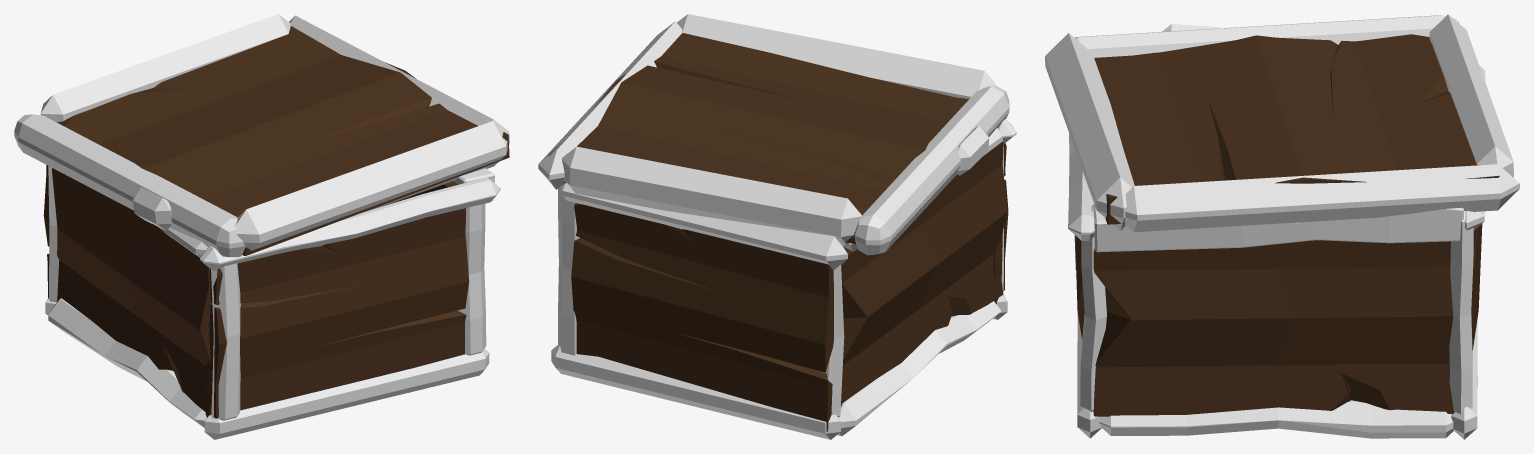
The model's file is Chest 1.fbx.
3 renders of one model, left to right at view 1: azimuth 30°, elevation 25°; view 2: azimuth 150°, elevation 25°; view 3: azimuth 270°, elevation 25°, orthographic. The views are drawn at different scales.
Parts seen in each view (by area): view 1: Plank .009, Plank .005, Plank .008, Cube.140, Cube.139, Cube.124, Cube.141, Cube.132, Cube.127, Cube.130, Cube.128, Cube.138 (+3 smaller); view 2: Plank .006, Plank .009, Plank .008, Cube.141, Cube.140, Cube.139, Cube.125, Cube.133, Cube.127, Cube.138, Cube.129, Cube.131 (+2 smaller); view 3: Plank .004, Plank .009, Cube.138, Cube.134, Cube.126, Cube.140, Cube.139, Cube.141, Cube.129, Cube.128, Cube.132, Cube.125 (+3 smaller).
Boxes of the visible parts, x1,y1,x2,y2 form: Plank .009: [57, 26, 509, 255]; Plank .005: [205, 201, 469, 418]; Plank .008: [52, 168, 211, 415]; Cube.140: [234, 121, 509, 250]; Cube.139: [14, 114, 245, 257]; Cube.124: [204, 348, 489, 439]; Cube.141: [40, 14, 290, 122]; Cube.132: [200, 177, 500, 270]; Cube.127: [48, 298, 206, 427]; Cube.130: [211, 263, 240, 420]; Cube.128: [457, 182, 486, 355]; Cube.138: [289, 15, 508, 132]; Plank .006: [571, 203, 833, 431]; Plank .009: [548, 33, 968, 244]; Plank .008: [841, 141, 1007, 406]; Cube.141: [562, 146, 862, 245]; Cube.140: [677, 14, 998, 98]; Cube.139: [854, 86, 1009, 255]; Cube.125: [551, 344, 840, 439]; Cube.133: [558, 183, 847, 269]; Cube.127: [837, 301, 1001, 436]; Cube.138: [538, 21, 682, 189]; Cube.129: [558, 189, 579, 355]; Cube.131: [816, 264, 844, 417]; Plank .004: [1093, 240, 1454, 416]; Plank .009: [1094, 34, 1499, 224]; Cube.138: [1124, 164, 1519, 232]; Cube.134: [1093, 204, 1463, 252]; Cube.126: [1099, 400, 1453, 438]; Cube.140: [1045, 33, 1134, 230]; Cube.139: [1075, 15, 1459, 57]; Cube.141: [1429, 14, 1513, 177]; Cube.129: [1449, 211, 1473, 414]; Cube.128: [1080, 205, 1106, 412]; Cube.132: [1068, 133, 1094, 240]; Cube.125: [1451, 319, 1477, 439].
Bounding box in the file's own units: 35.46 × 22.8 × 34.93.
